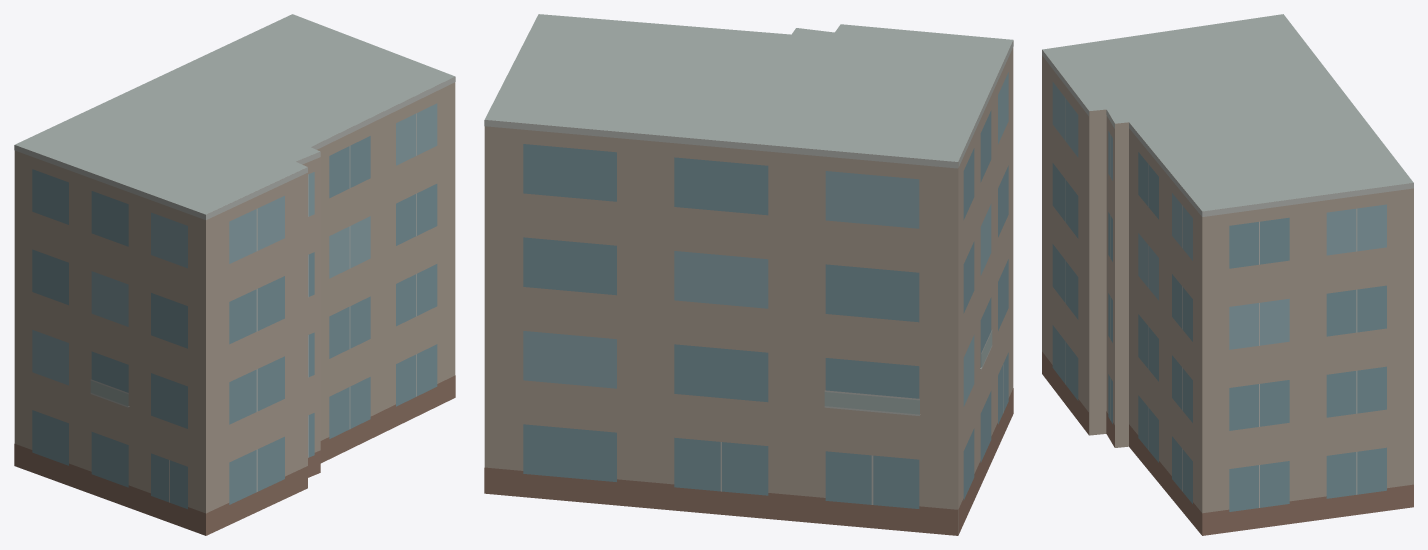
File: survey-upis-32910654.glb
The picture shows the model from 3 angles, left to right: view 1: azimuth 30°, elevation 25°; view 2: azimuth 150°, elevation 25°; view 3: azimuth 270°, elevation 25°; orthographic projection. The views are drawn at different scales.
Visible parts, largest first — view 1: survey-upis-32910654.tmp; view 2: survey-upis-32910654.tmp; view 3: survey-upis-32910654.tmp.
Boxes of the visible parts, x1,y1,x2,y2 form: survey-upis-32910654.tmp: [14, 14, 455, 535]; survey-upis-32910654.tmp: [484, 14, 1013, 535]; survey-upis-32910654.tmp: [1042, 14, 1413, 535].
Size of the model in its own units: 18.42 by 14.1 by 14.65.
